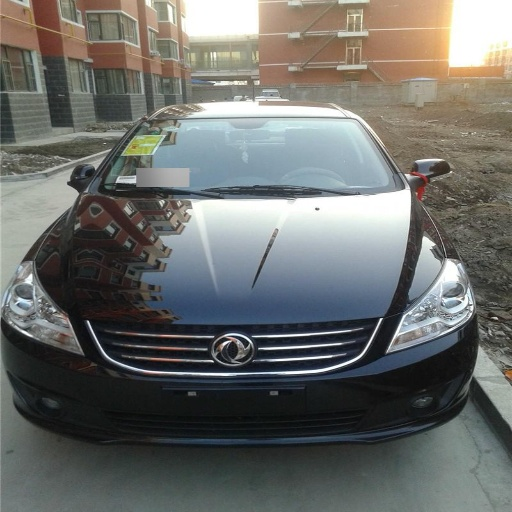front_bumper: (2, 290, 470, 443)
front_right_light: (2, 258, 78, 350)
hood: (38, 190, 444, 334)
